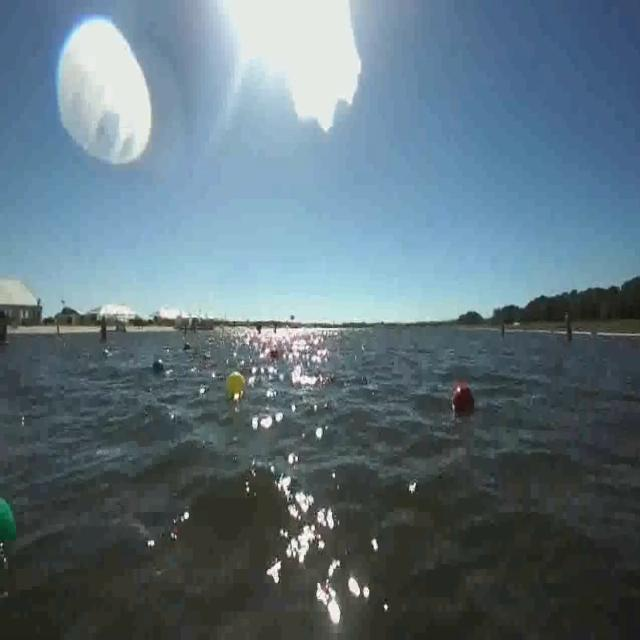green-buoy: (0, 494, 20, 543)
red-buoy: (451, 381, 474, 416)
yellow-buoy: (227, 369, 244, 392)
